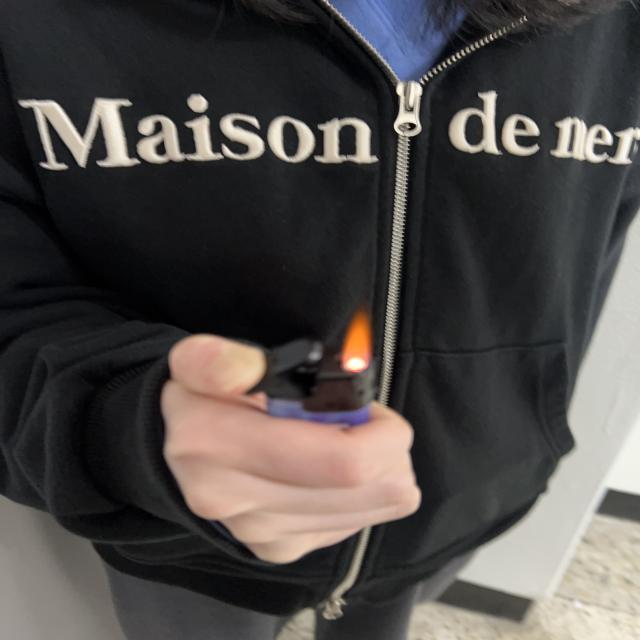fire: (340, 307, 372, 373)
